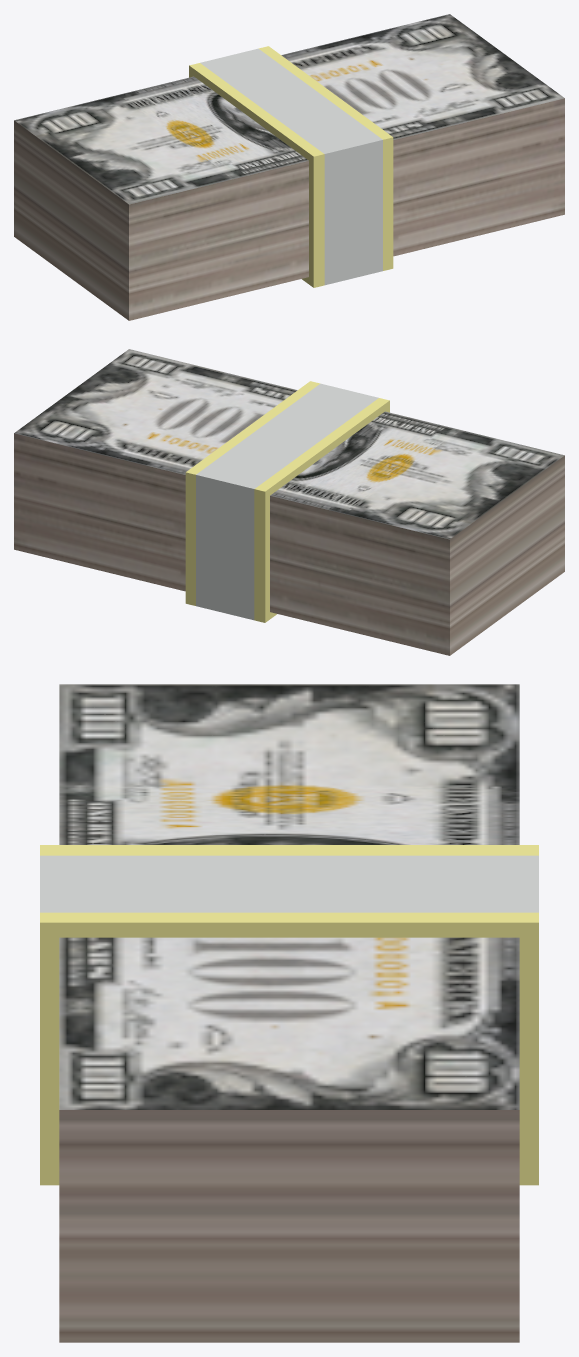
File: cuc tien.fbx
3 renders of one model, top to bottom at view 1: azimuth 30°, elevation 25°; view 2: azimuth 150°, elevation 25°; view 3: azimuth 270°, elevation 25°, orthographic. The views are drawn at different scales.
Visible parts, largest first — view 1: cuc_tien; view 2: cuc_tien; view 3: cuc_tien.
Boxes of the visible parts, box(x1,y1,x2,y2) form: cuc_tien: box(14, 14, 564, 320); cuc_tien: box(14, 349, 564, 655); cuc_tien: box(40, 684, 538, 1342).
Bounding box in the file's own units: 5.28 × 1.52 × 2.61.
1 material, 1 textured.
